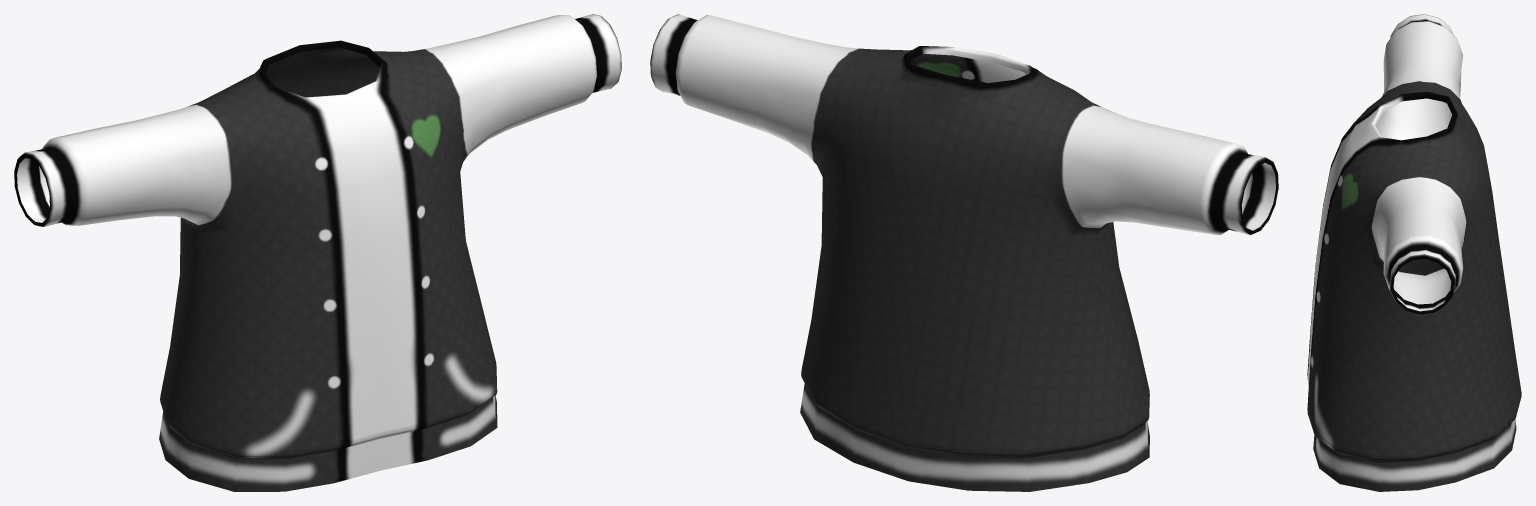
Rendered from upper cloth 09.glb.
3 renders of one model, left to right at view 1: azimuth 30°, elevation 25°; view 2: azimuth 150°, elevation 25°; view 3: azimuth 270°, elevation 25°, orthographic. The views are drawn at different scales.
Parts seen in each view (by area): view 1: upper_cloth_09; view 2: upper_cloth_09; view 3: upper_cloth_09.
Boxes of the visible parts, x1,y1,x2,y2 form: upper_cloth_09: (14,14,621,491); upper_cloth_09: (650,14,1278,491); upper_cloth_09: (1307,14,1521,491).
Size of the model in its own units: 0.0116 by 0.00712 by 0.00433.
Materials: 1 (1 with a texture image).
